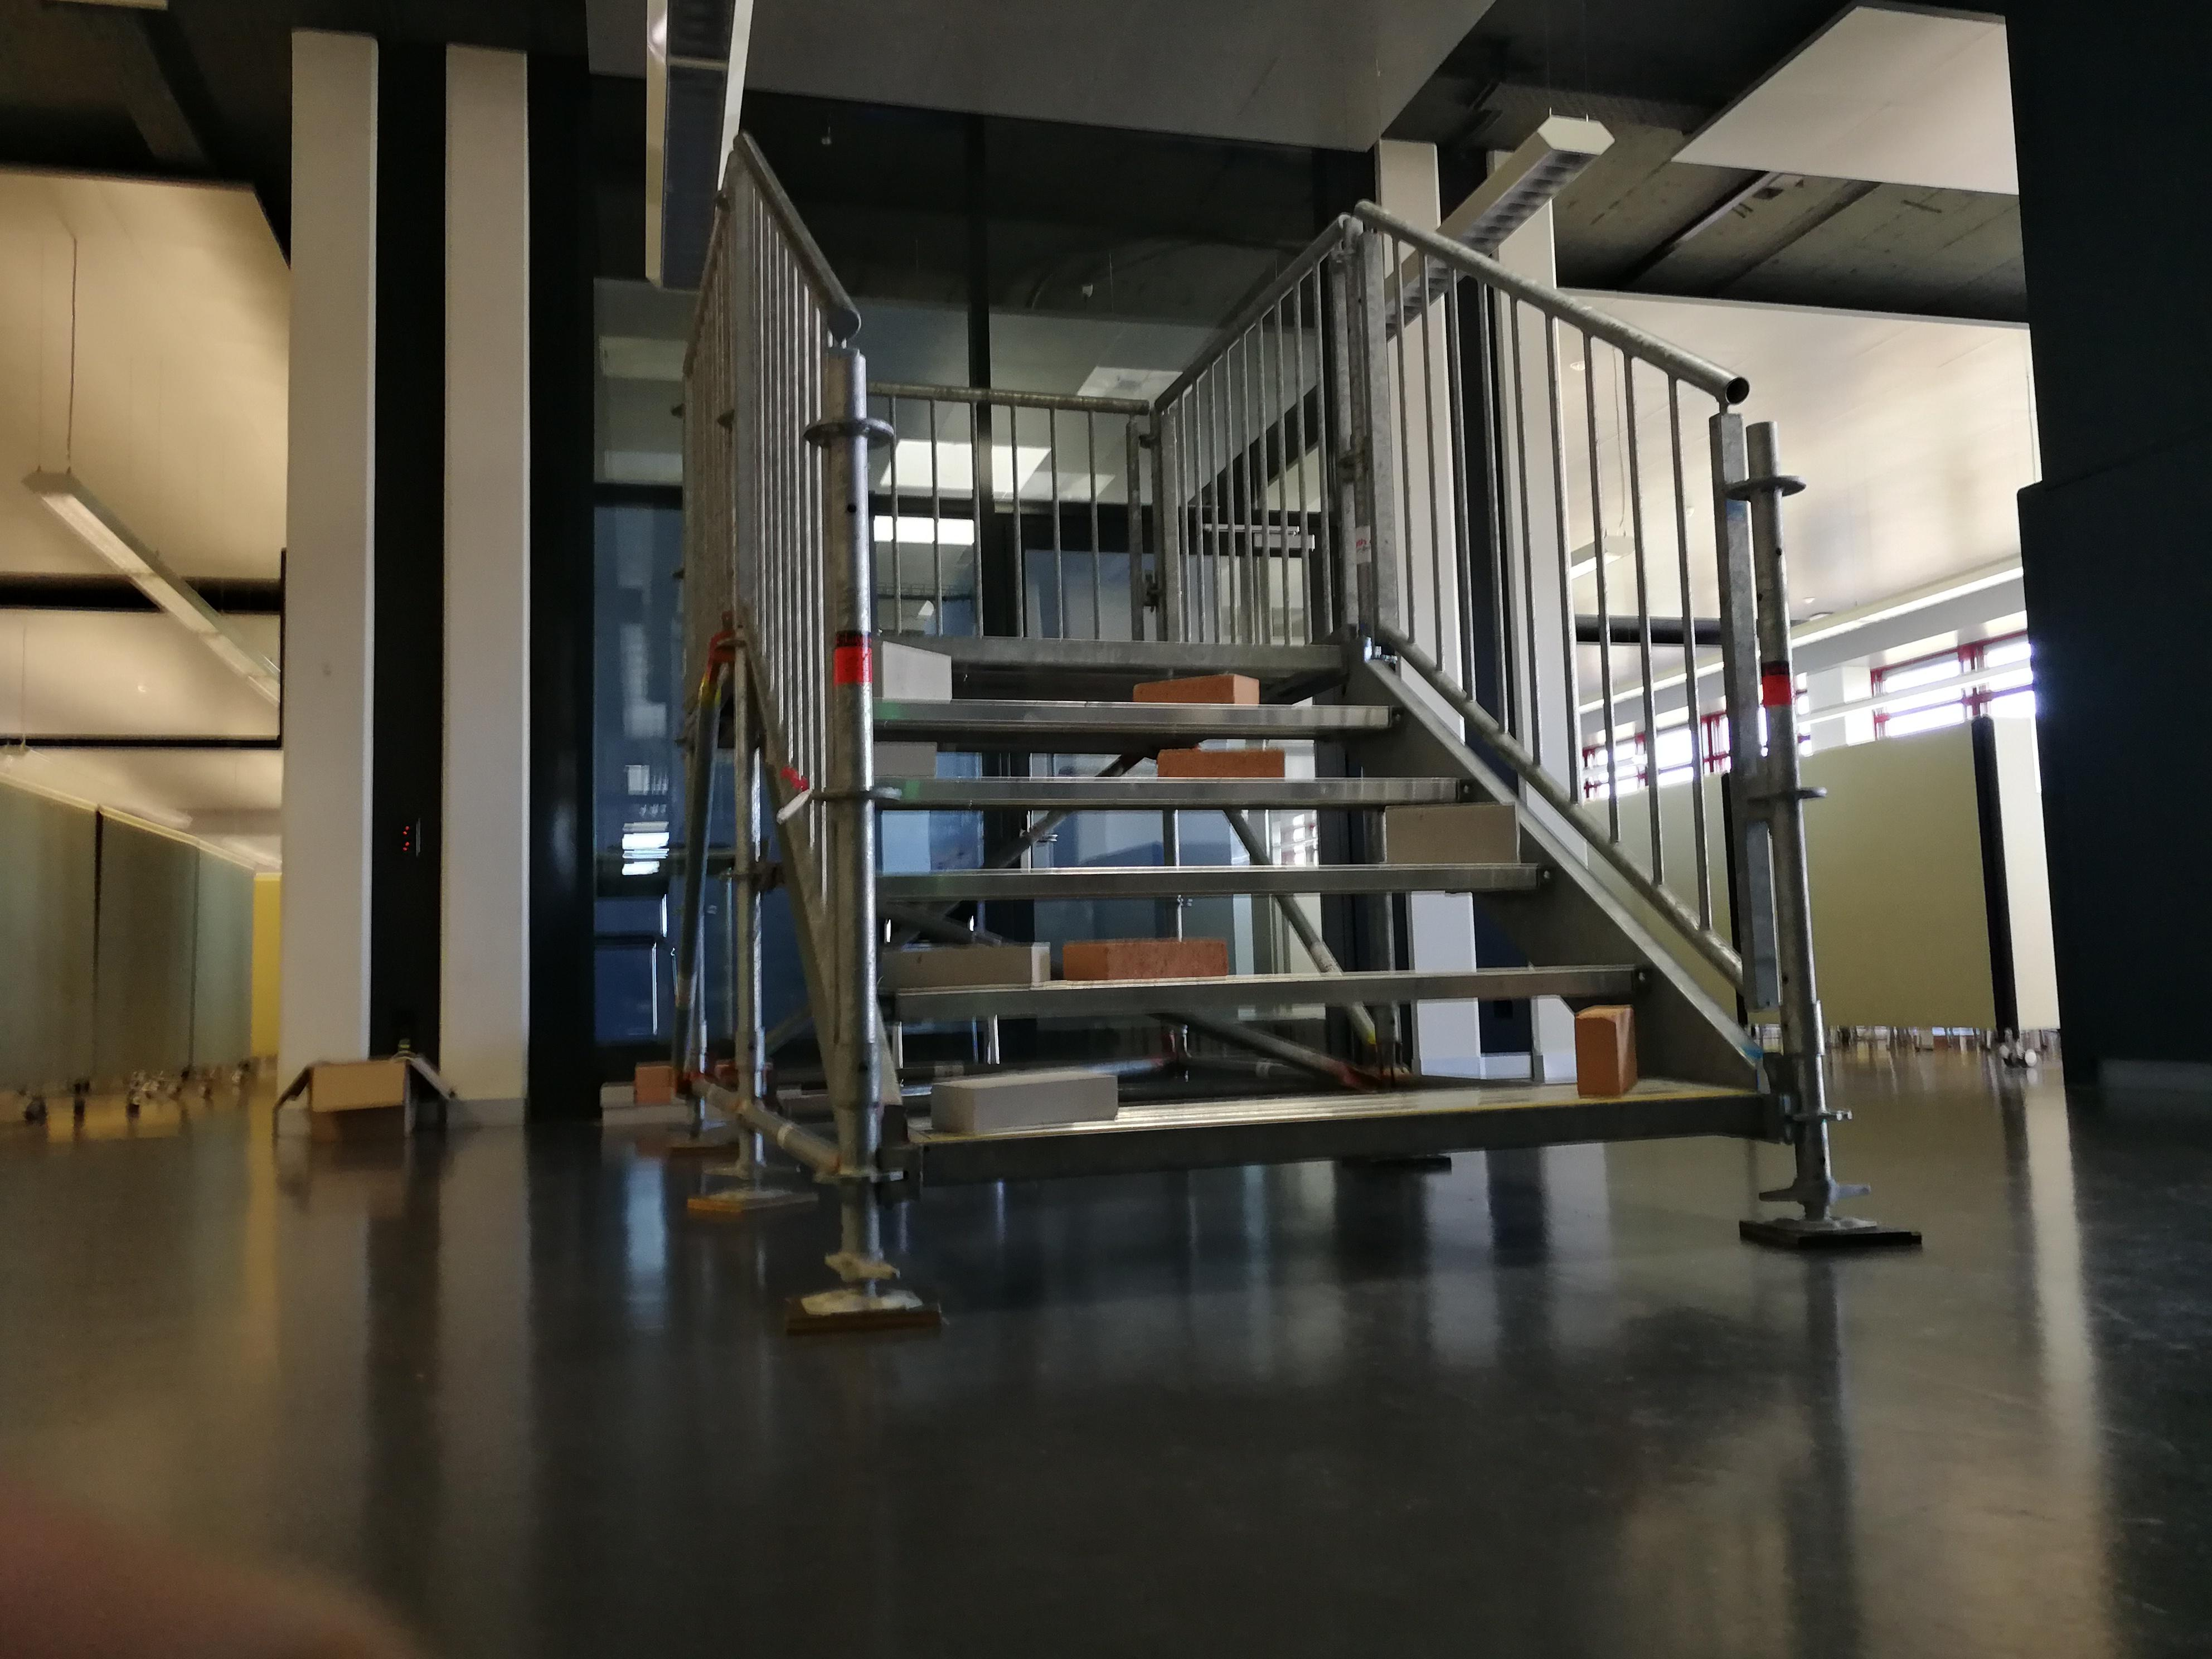brick: (932, 1065, 1115, 1129), (1386, 807, 1515, 864), (1064, 938, 1224, 978), (899, 945, 1047, 986), (1576, 1004, 1635, 1098), (1136, 671, 1259, 714), (873, 638, 948, 701), (1155, 749, 1282, 781), (873, 739, 932, 774)
edge: (902, 1091, 1764, 1183), (892, 972, 1672, 1021), (874, 868, 1552, 896), (871, 695, 1404, 727), (883, 779, 1477, 803), (871, 643, 1360, 669)
stairs: (791, 227, 1923, 1321)
steps: (859, 619, 1777, 1209)
